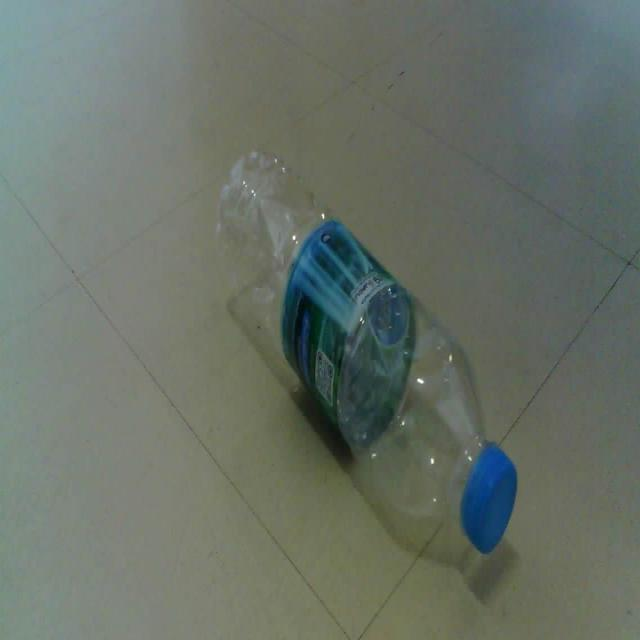empty: (219, 152, 517, 552)
